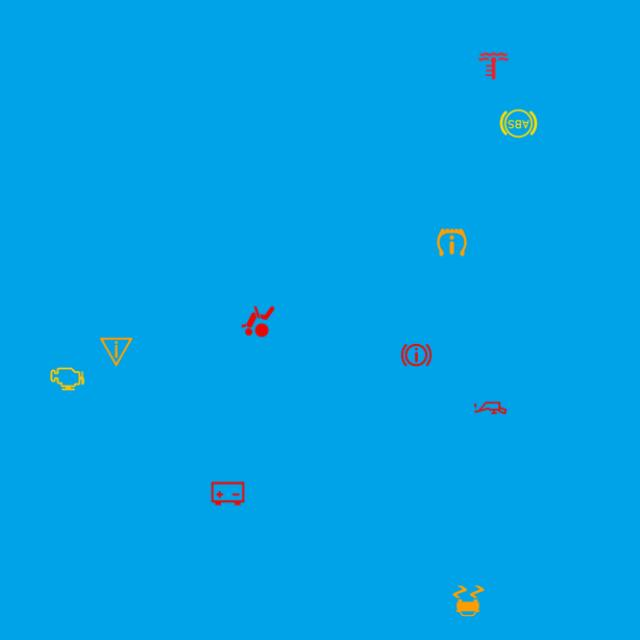Anti Lock Braking System: (498, 104, 538, 144)
Braking System Issue: (396, 335, 436, 375)
Charging System Issue: (208, 474, 248, 514)
Check Engine: (47, 359, 87, 399)
Electronic Stability Problem -ESP-: (448, 581, 488, 621)
Engine Overheating Warning Light: (474, 46, 514, 86)
Low Engine Oil Warning Light: (470, 388, 510, 428)
Low Tire Pressure Warning Light: (432, 222, 472, 262)
Master warning light: (96, 332, 136, 372)
SRS-Airbag: (238, 302, 278, 342)
